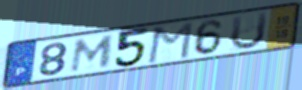5: (113, 26, 153, 69)
6: (193, 18, 226, 56)
8: (39, 42, 68, 77)
M: (145, 20, 196, 65), (68, 33, 117, 74)
U: (228, 9, 270, 52)
